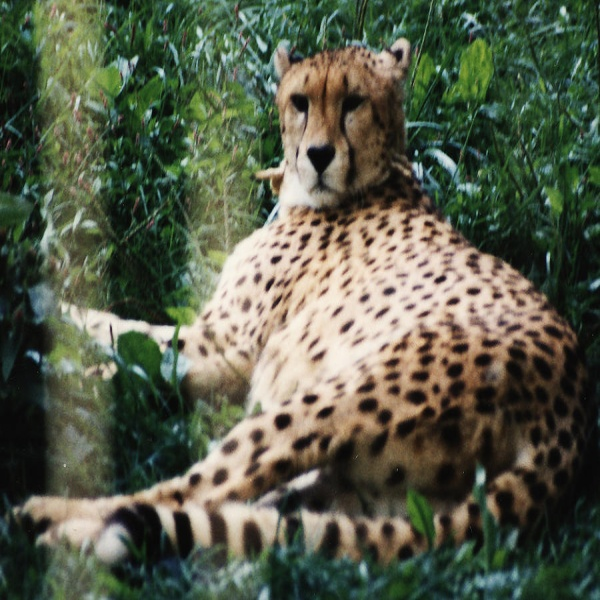Cheetah: (27, 32, 585, 572)
